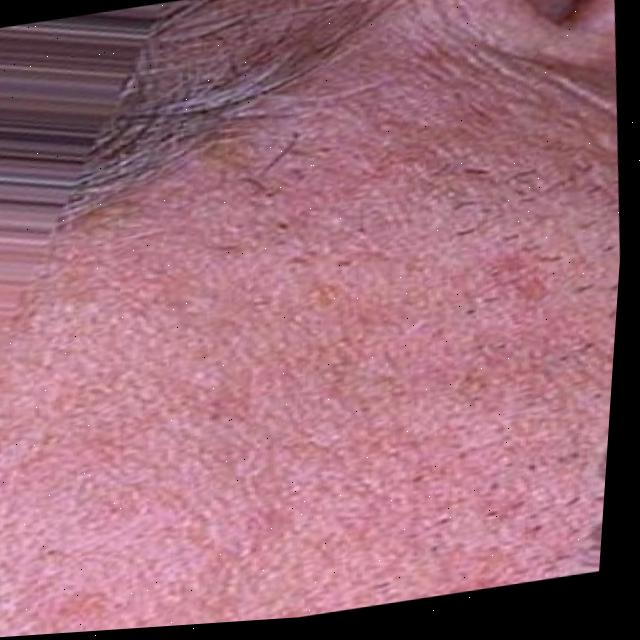Rosacea: (490, 263, 543, 309)
